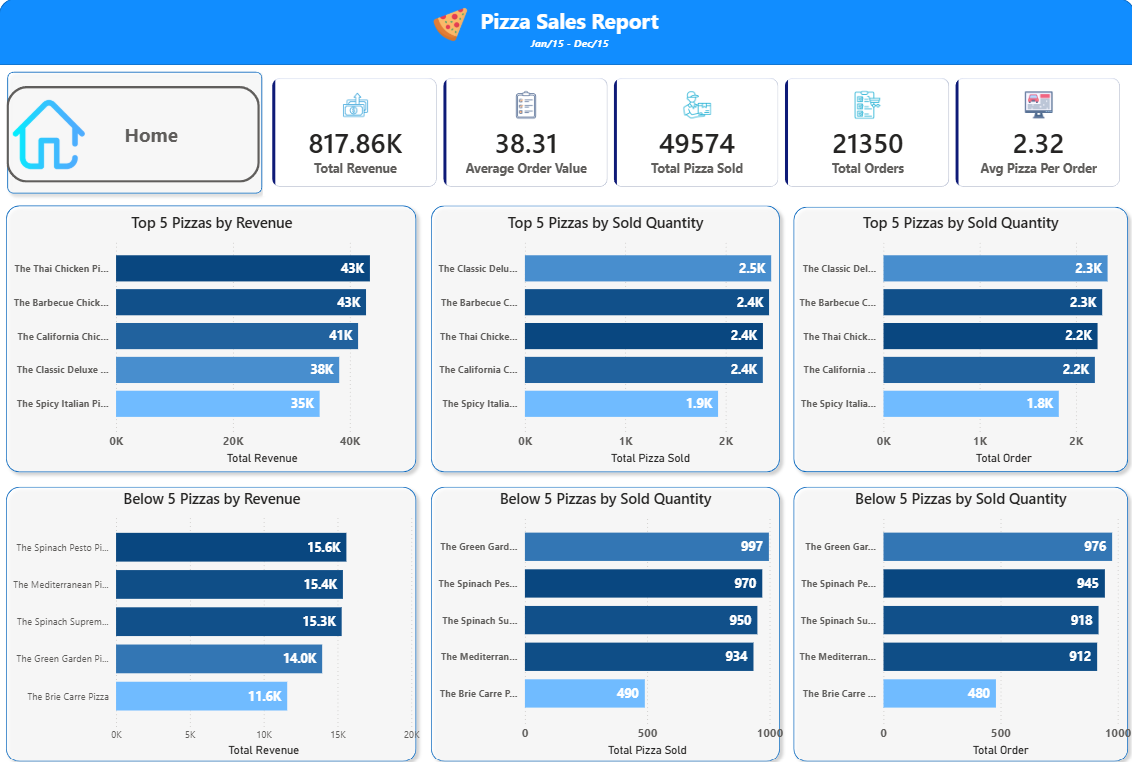

The dashboard page shown, as its layout file describes it:
{"tool":"powerbi","page":{"name":"Top/Bottom Best Sellers","canvas":[1450,1000],"ordinal":1},"visuals":[{"type":"shape","box":[1.7,100,343.3,173.3],"z":0},{"type":"shape","box":[0,271.7,541.7,358.3],"z":1000},{"type":"cardVisual","fields":{"Data":["pizza_sales.Total Revenue","pizza_sales.average_order_value","pizza_sales.total_pizza_sold","pizza_sales.total_order","pizza_sales.avg_pizza_per_order"]},"box":[331.7,100,1118.3,173.3],"z":2000},{"type":"shape","box":[0,15.4,1450,84.8],"z":3000},{"type":"image","box":[541.8,27,67.5,44.3],"z":4000},{"type":"textbox","box":[609.3,21.2,252.6,55.9],"z":5000},{"type":"textbox","box":[672.9,59.8,121.5,32.8],"z":6000},{"type":"shape","box":[541.7,271.7,463.3,358.3],"z":7000},{"type":"shape","box":[1005,273.3,445,356.7],"z":8000},{"type":"shape","box":[0,630,541.7,370],"z":9000},{"type":"shape","box":[541.7,630,463.3,370],"z":10000},{"type":"shape","box":[1005,630,445,370],"z":11000},{"type":"clusteredBarChart","title":"Top 5 Pizzas by Revenue","fields":{"Y":["pizza_sales.Total Revenue"],"Category":["pizza_sales.pizza_name"]},"box":[1.7,288.3,540,326.7],"z":12000},{"type":"clusteredBarChart","title":"Below 5 Pizzas by Revenue","fields":{"Y":["pizza_sales.Total Revenue"],"Category":["pizza_sales.pizza_name"]},"box":[1.7,641.7,540,346.7],"z":13000},{"type":"clusteredBarChart","title":"Top 5 Pizzas by Sold Quantity","fields":{"Category":["pizza_sales.pizza_name"],"Y":["pizza_sales.total_pizza_sold"]},"box":[541.7,288.3,463.3,326.7],"z":14000},{"type":"clusteredBarChart","title":"Below 5 Pizzas by Sold Quantity","fields":{"Category":["pizza_sales.pizza_name"],"Y":["pizza_sales.total_pizza_sold"]},"box":[541.7,641.7,463.3,346.7],"z":15000},{"type":"clusteredBarChart","title":"Top 5 Pizzas by Sold Quantity","fields":{"Category":["pizza_sales.pizza_name"],"Y":["pizza_sales.total_order"]},"box":[1005,288.3,445,326.7],"z":16000},{"type":"clusteredBarChart","title":"Below 5 Pizzas by Sold Quantity","fields":{"Category":["pizza_sales.pizza_name"],"Y":["pizza_sales.total_order"]},"box":[1005,641.7,445,346.7],"z":17000},{"type":"actionButton","box":[10,128.3,323.3,123.3],"z":18000},{"type":"image","box":[10,143.3,108.3,91.7],"z":19000}]}

Visuals, with their boxes in screenshot pixels (x1, y1, x2, y2), scaled from the page's 1450x1000 canvas onto the 1132x762 screenshot:
shape: <box>1,76,269,208</box>
shape: <box>0,207,423,480</box>
cardVisual - pizza_sales.Total Revenue x pizza_sales.average_order_value: <box>259,76,1131,208</box>
shape: <box>0,12,1131,76</box>
image: <box>423,21,476,54</box>
textbox: <box>476,16,673,59</box>
textbox: <box>525,46,620,71</box>
shape: <box>423,207,785,480</box>
shape: <box>785,208,1131,480</box>
shape: <box>0,480,423,761</box>
shape: <box>423,480,785,761</box>
shape: <box>785,480,1131,761</box>
"Top 5 Pizzas by Revenue" clusteredBarChart: <box>1,220,423,469</box>
"Below 5 Pizzas by Revenue" clusteredBarChart: <box>1,489,423,753</box>
"Top 5 Pizzas by Sold Quantity" clusteredBarChart: <box>423,220,785,469</box>
"Below 5 Pizzas by Sold Quantity" clusteredBarChart: <box>423,489,785,753</box>
"Top 5 Pizzas by Sold Quantity" clusteredBarChart: <box>785,220,1131,469</box>
"Below 5 Pizzas by Sold Quantity" clusteredBarChart: <box>785,489,1131,753</box>
actionButton: <box>8,98,260,192</box>
image: <box>8,109,92,179</box>
